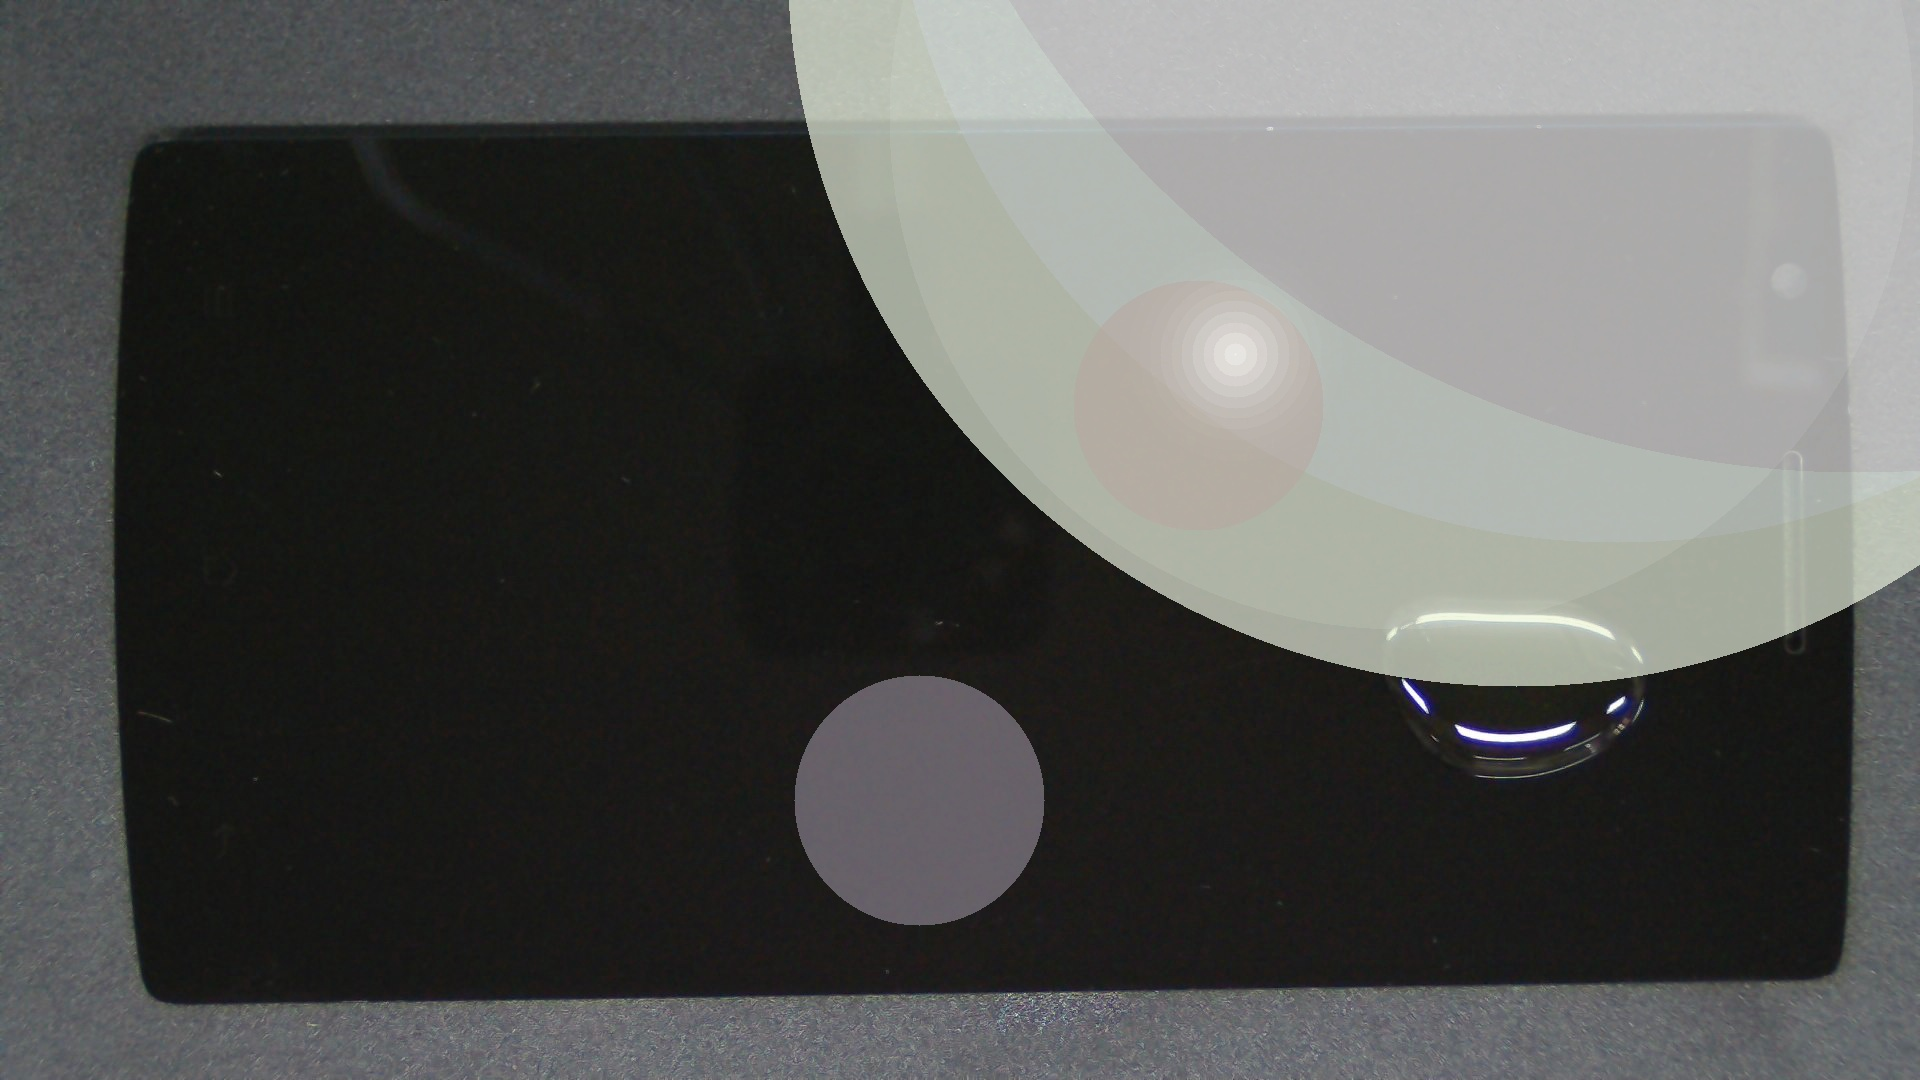oil: (717, 297, 1920, 893)
